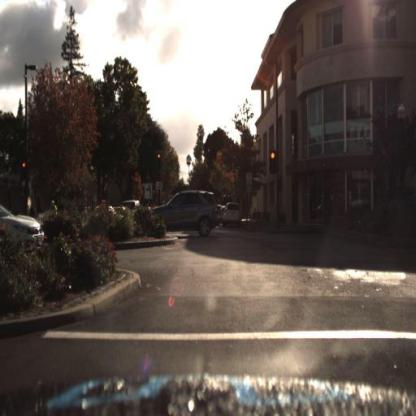biker: (49, 201, 59, 224)
car: (135, 185, 217, 250), (143, 187, 221, 235), (1, 200, 47, 264), (228, 201, 244, 229)
trafficLight: (21, 157, 29, 176)
trafficLight-Red: (155, 151, 163, 177), (269, 150, 277, 176), (156, 145, 163, 166)
